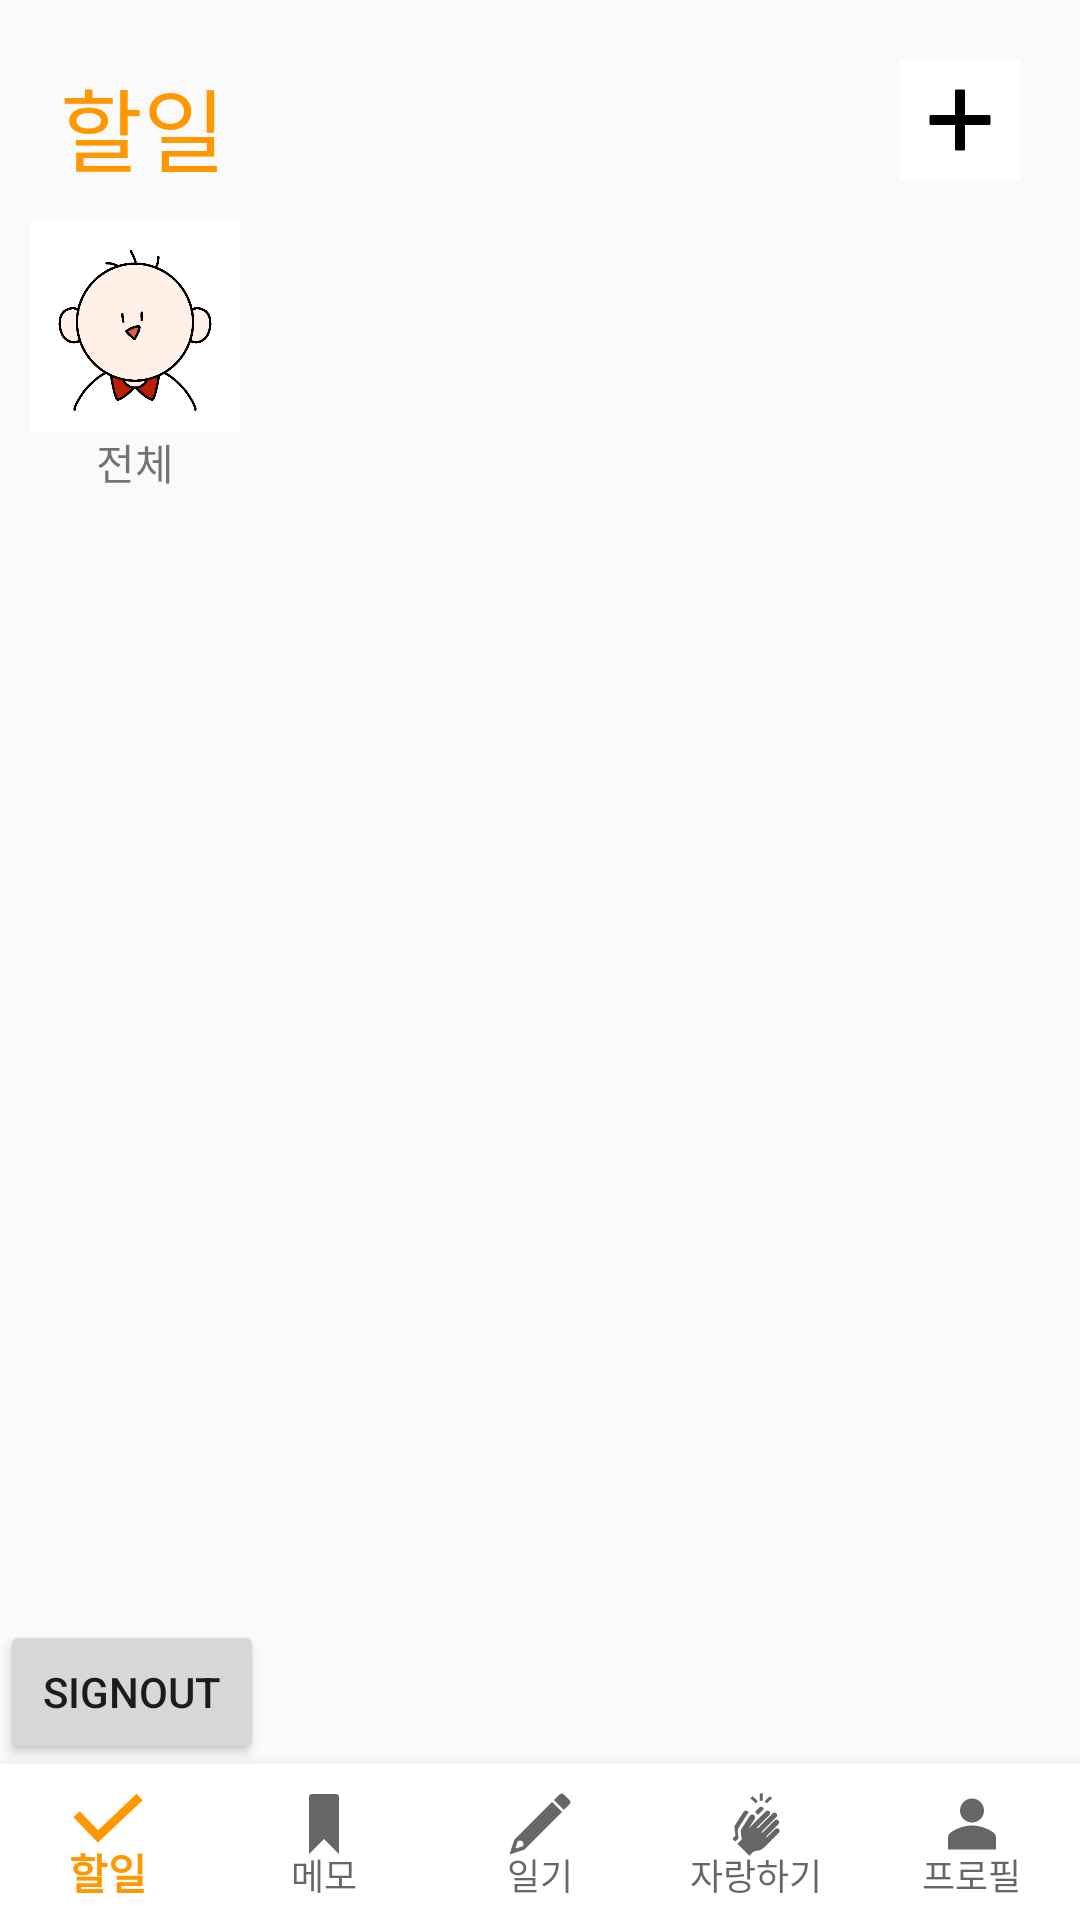

Icons on this 1080×1920 Android screen, each with the point to tap as point (x, y):
plus: point (960, 120)
